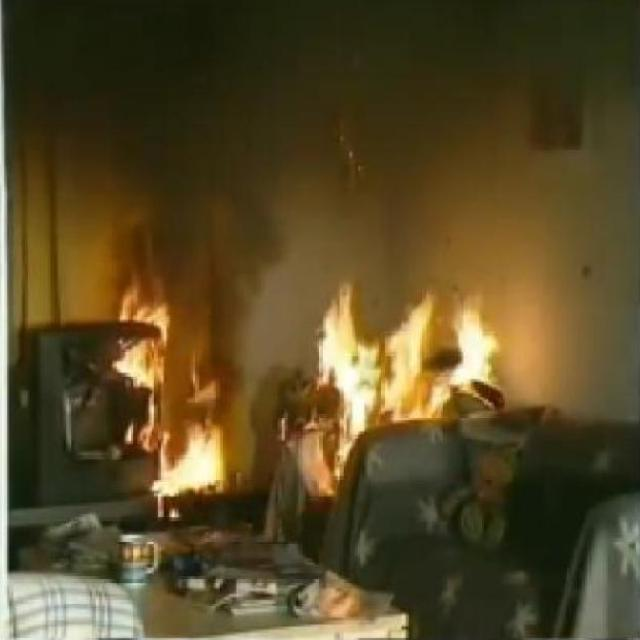fire: (5, 0, 640, 146), (139, 88, 284, 288)
smoke: (297, 265, 513, 454), (85, 259, 248, 504)
